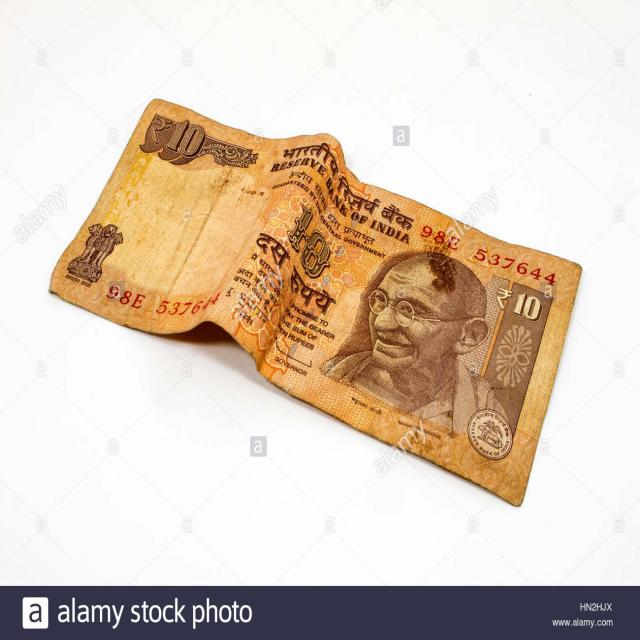10IndianRupees: (48, 95, 585, 508)
